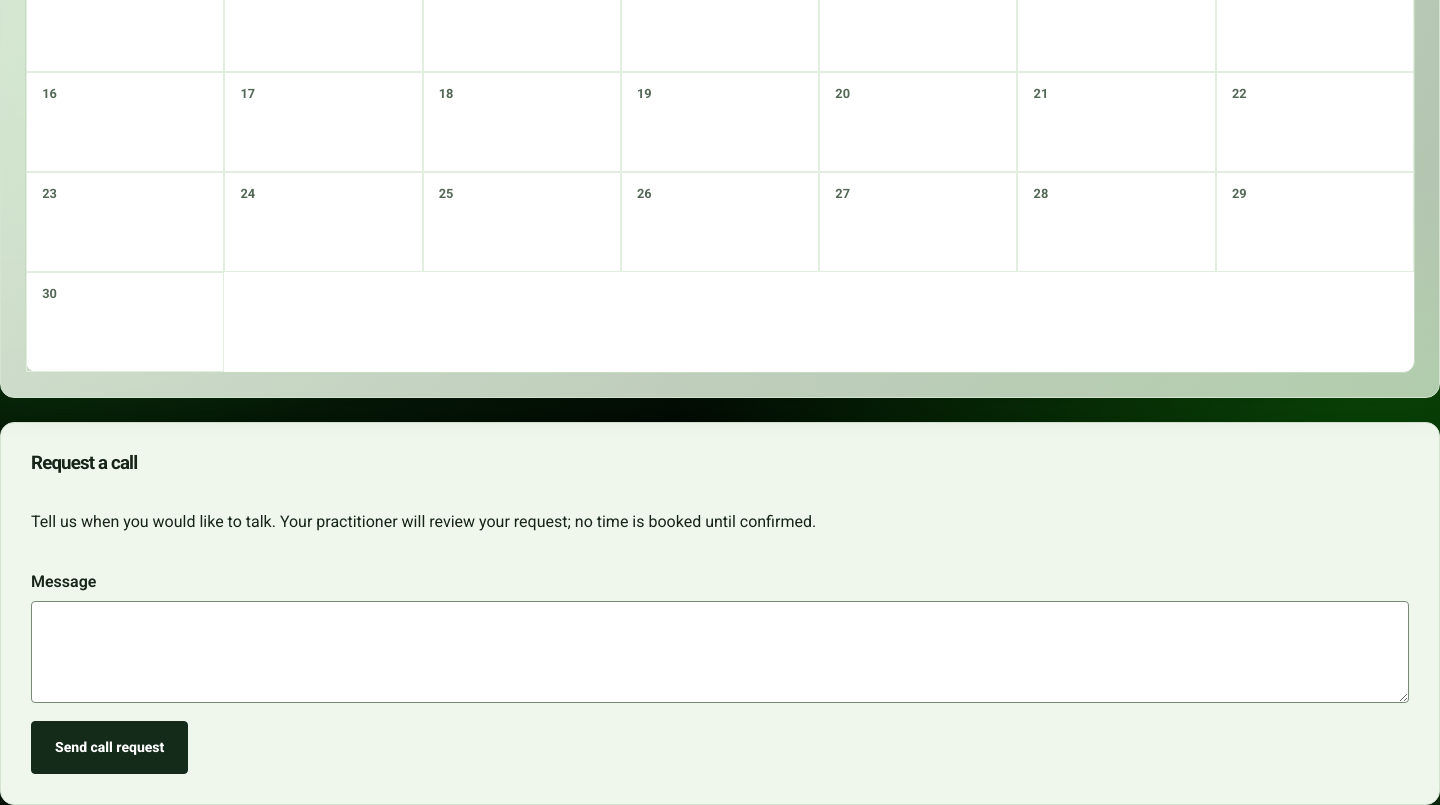
Test: a client can request a call without creating a booking
(page scrolled)
Type "A call next week please" into the text box labelled "Message".
click(720, 652); type("A call next week please")  # box [31,601,1409,703]
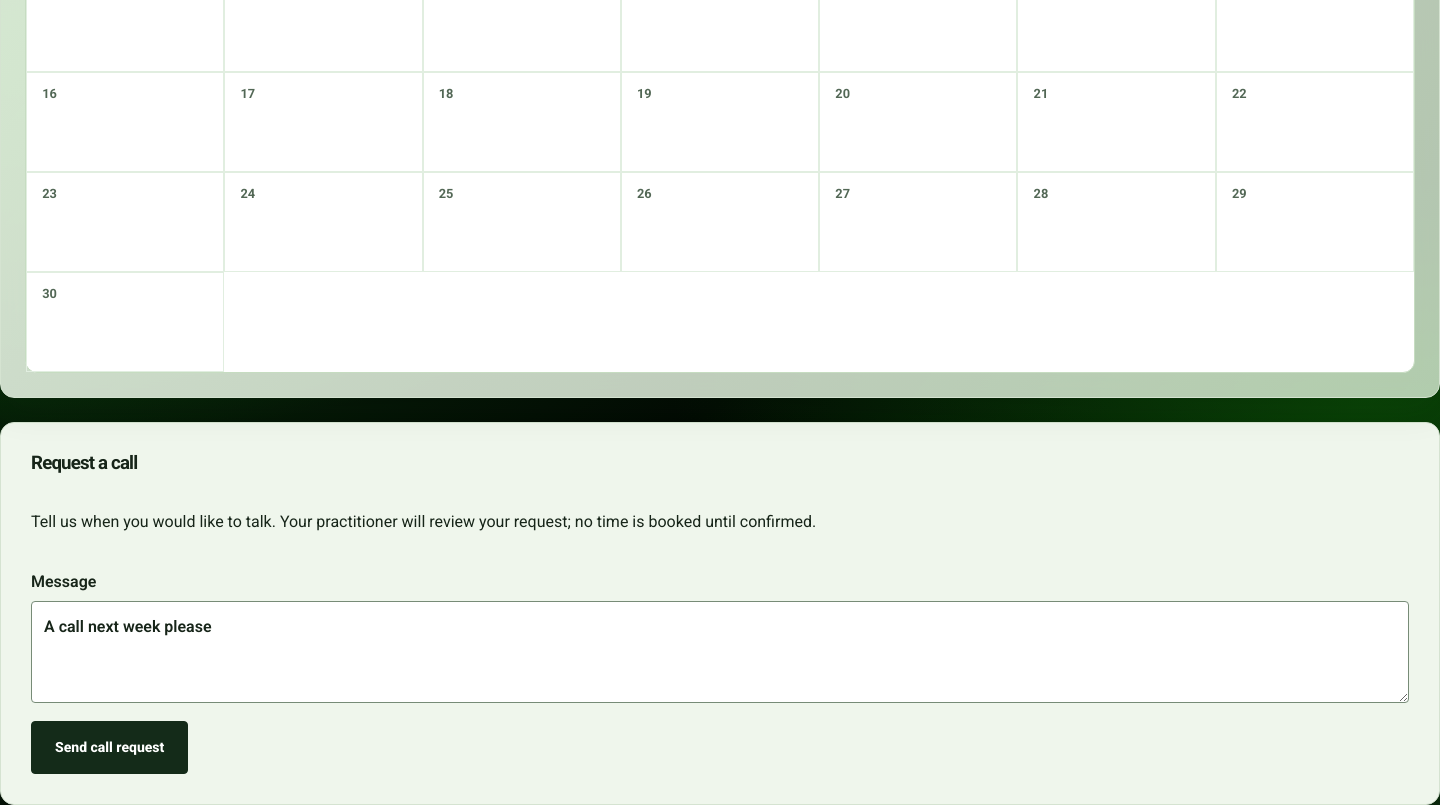
Click the button "Send call request".
click(110, 748)  # box [31,721,188,774]
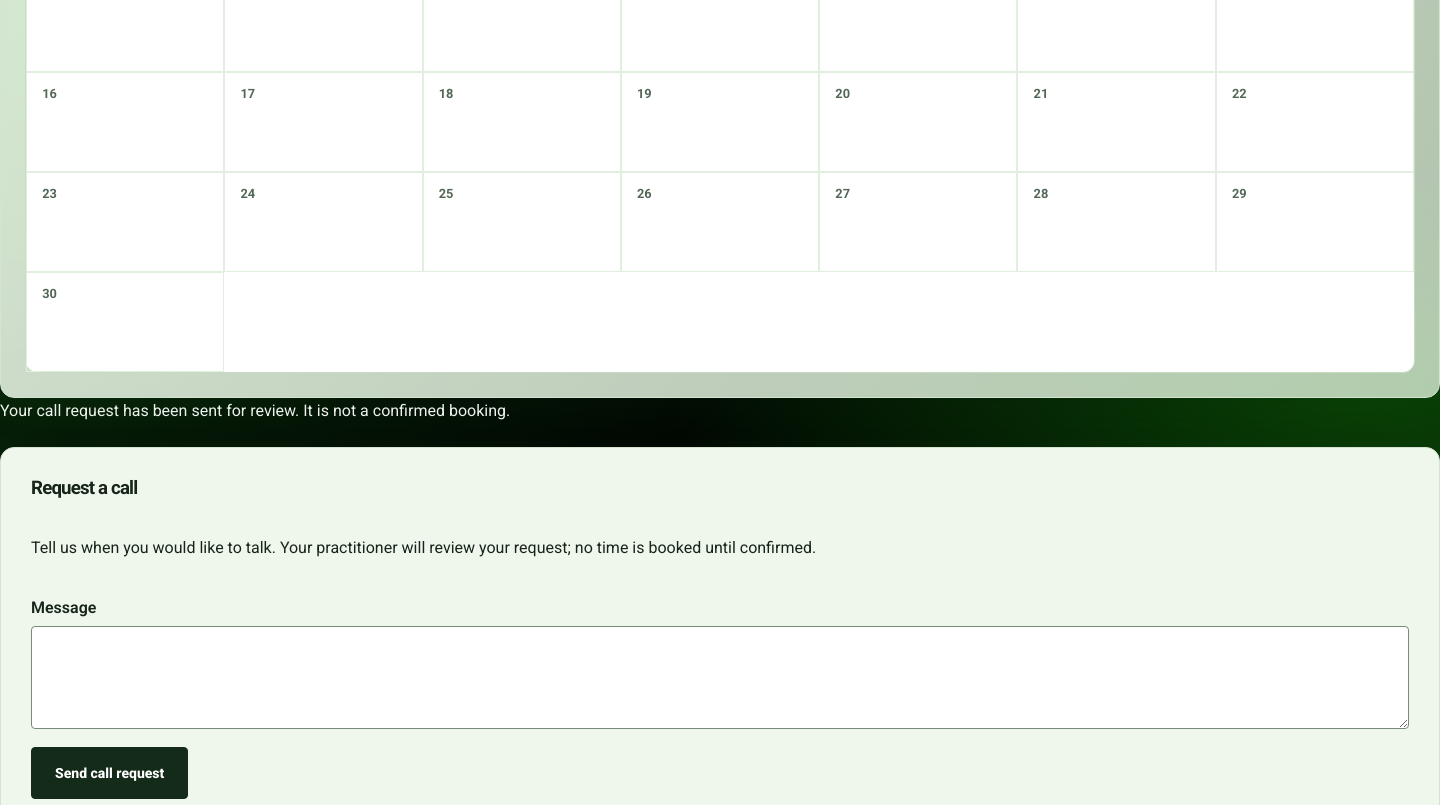
expect the text "Your call request has been sent for review. It is not a confirmed booking." is shown: met, box [0,400,510,420]
